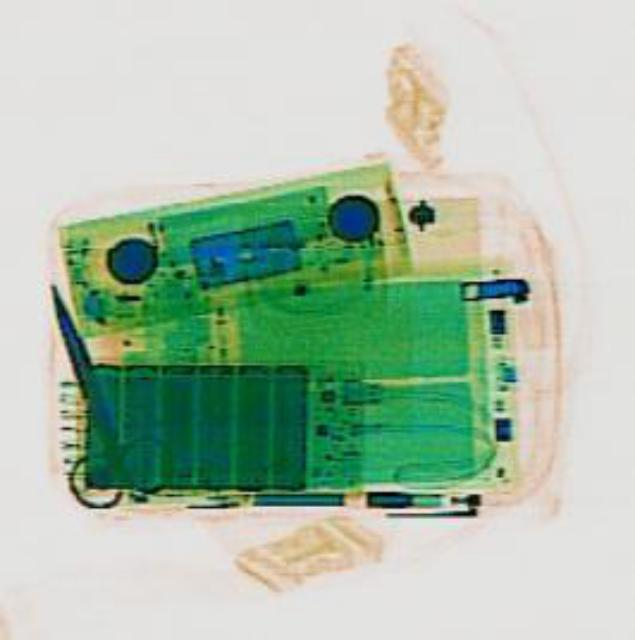Scissors: (0, 266, 179, 515)
